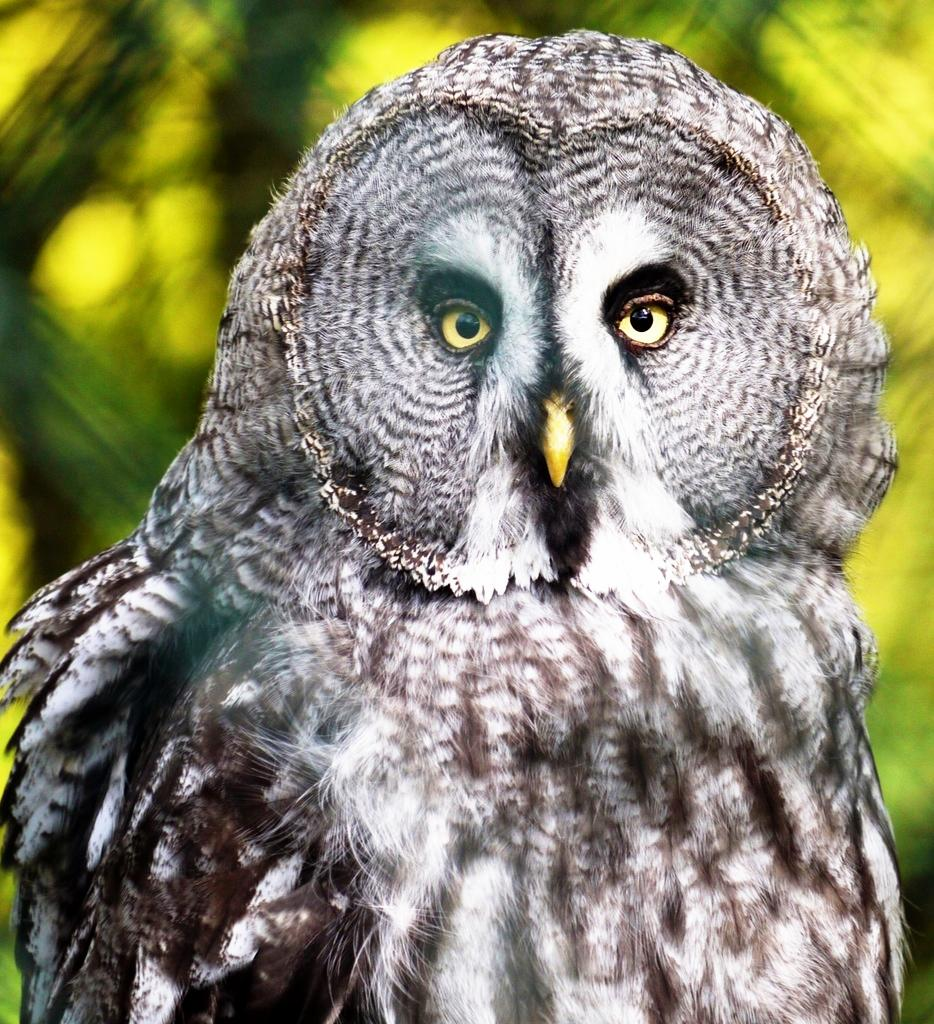Owl: (0, 28, 926, 1023)
